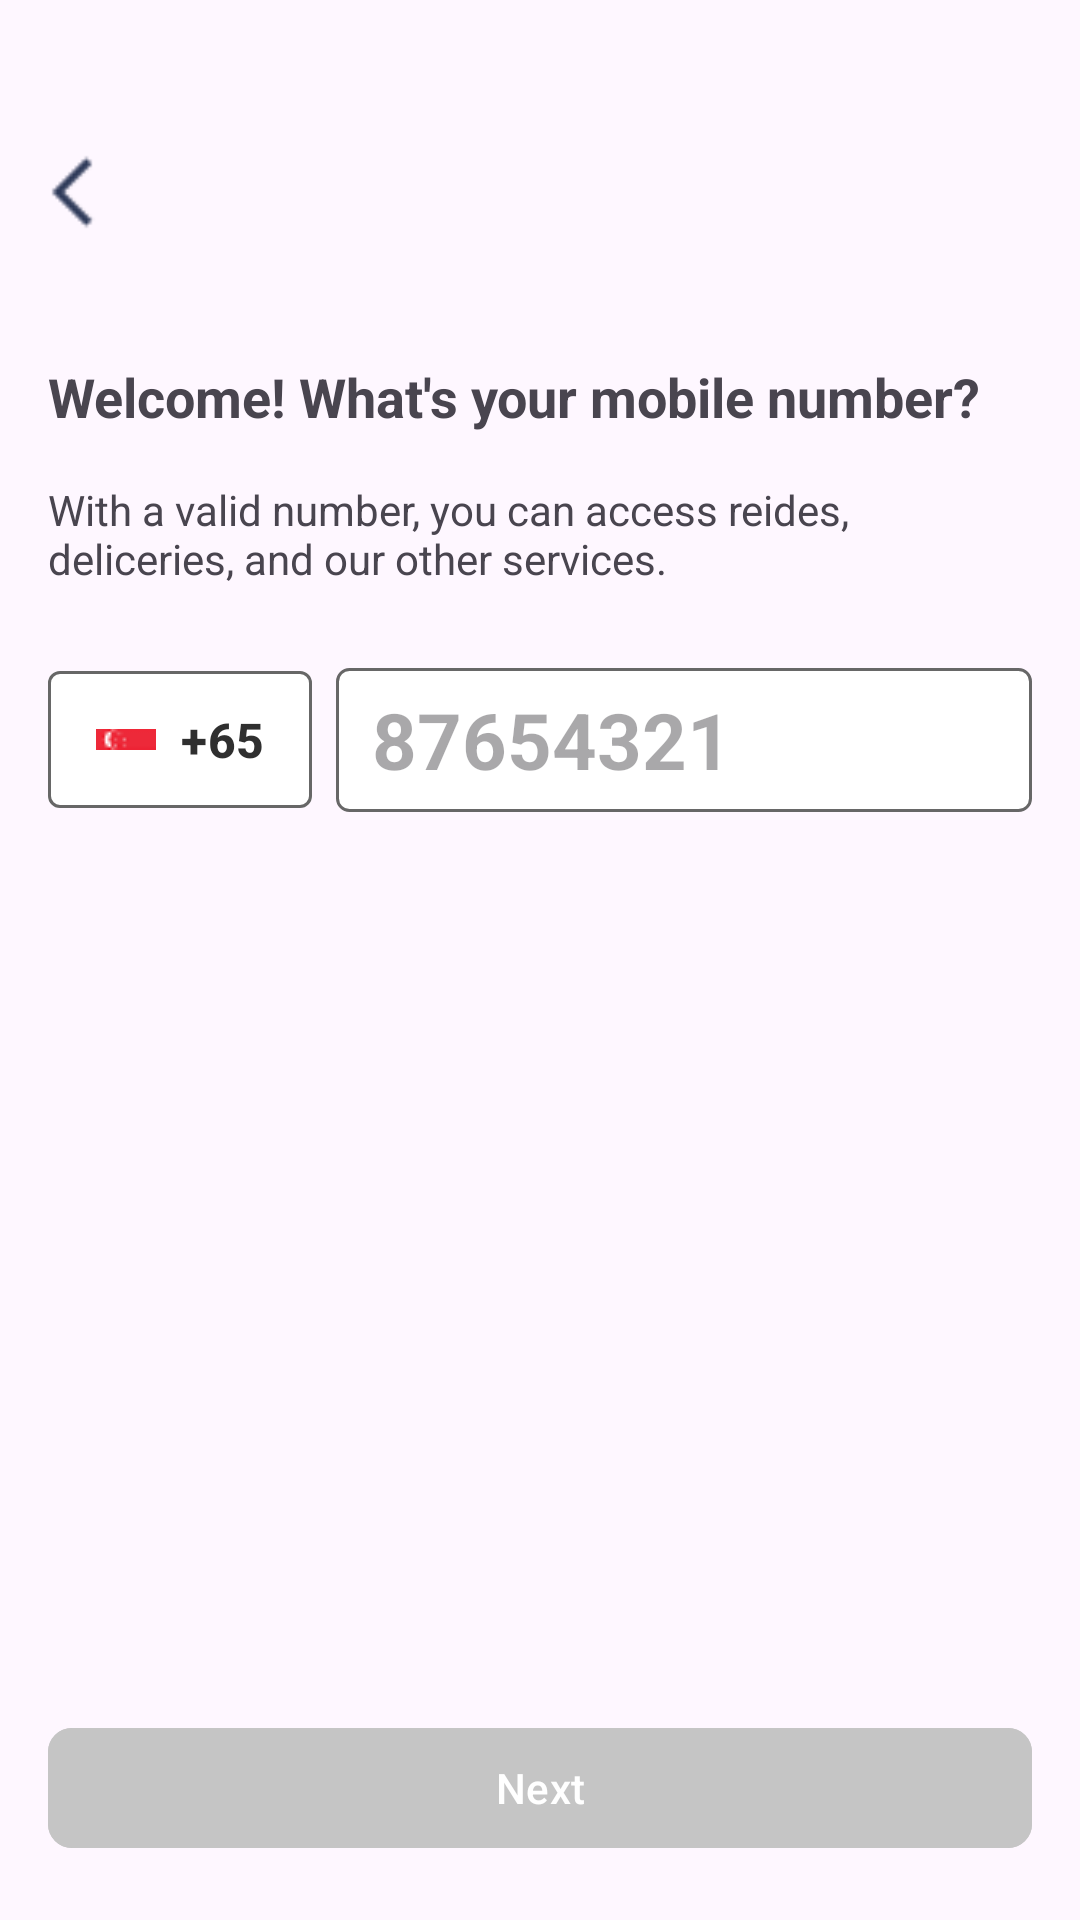

Icon click points for this 1080 x 1920 phone screenshot, format (x=x, y=y):
back: (x=72, y=192)
